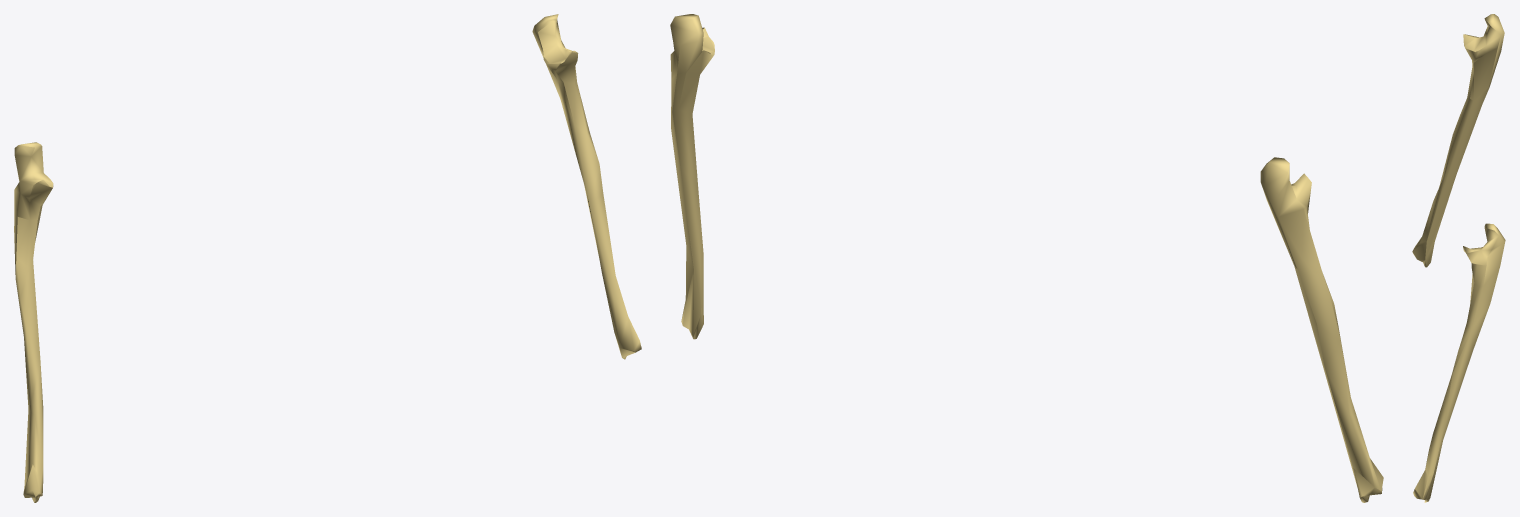
File: elbow-forearm-27MD7FSK.glb
3 views of the same model, side by side, from view 1: azimuth 30°, elevation 25°; view 2: azimuth 150°, elevation 25°; view 3: azimuth 270°, elevation 25° (orthographic). The views are drawn at different scales.
Visible parts, largest first — view 1: elbow-forearm:ulna:isa:FJ3391, elbow-forearm:ulna:isa:FJ3286; view 2: elbow-forearm:ulna:isa:FJ3391, elbow-forearm:ulna:isa:FJ3286; view 3: elbow-forearm:ulna:isa:FJ3286, elbow-forearm:ulna:isa:FJ3391.
Boxes of the visible parts, x1,y1,x2,y2 form: elbow-forearm:ulna:isa:FJ3391: [14, 142, 53, 502]; elbow-forearm:ulna:isa:FJ3286: [532, 14, 641, 359]; elbow-forearm:ulna:isa:FJ3391: [1260, 157, 1383, 502]; elbow-forearm:ulna:isa:FJ3286: [670, 14, 714, 339]; elbow-forearm:ulna:isa:FJ3286: [1413, 223, 1505, 502]; elbow-forearm:ulna:isa:FJ3391: [1412, 14, 1504, 267].
Bounding box in the file's own units: 0.4941 × 0.2469 × 0.0789.
